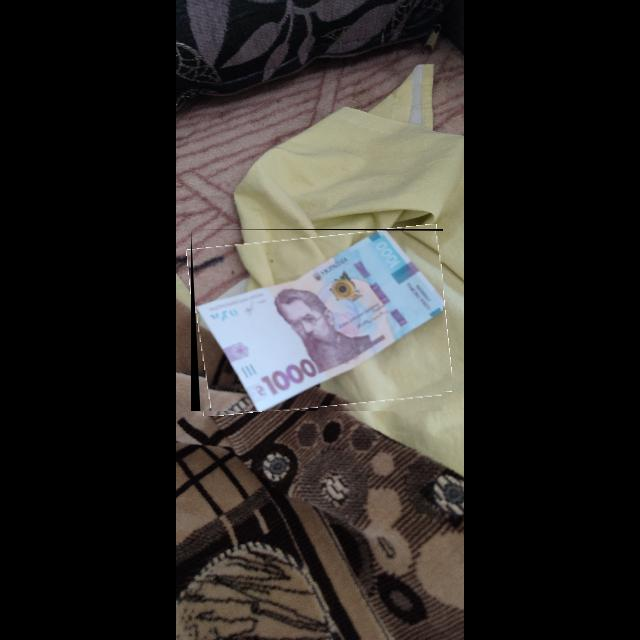1000uah: (195, 231, 444, 412)
